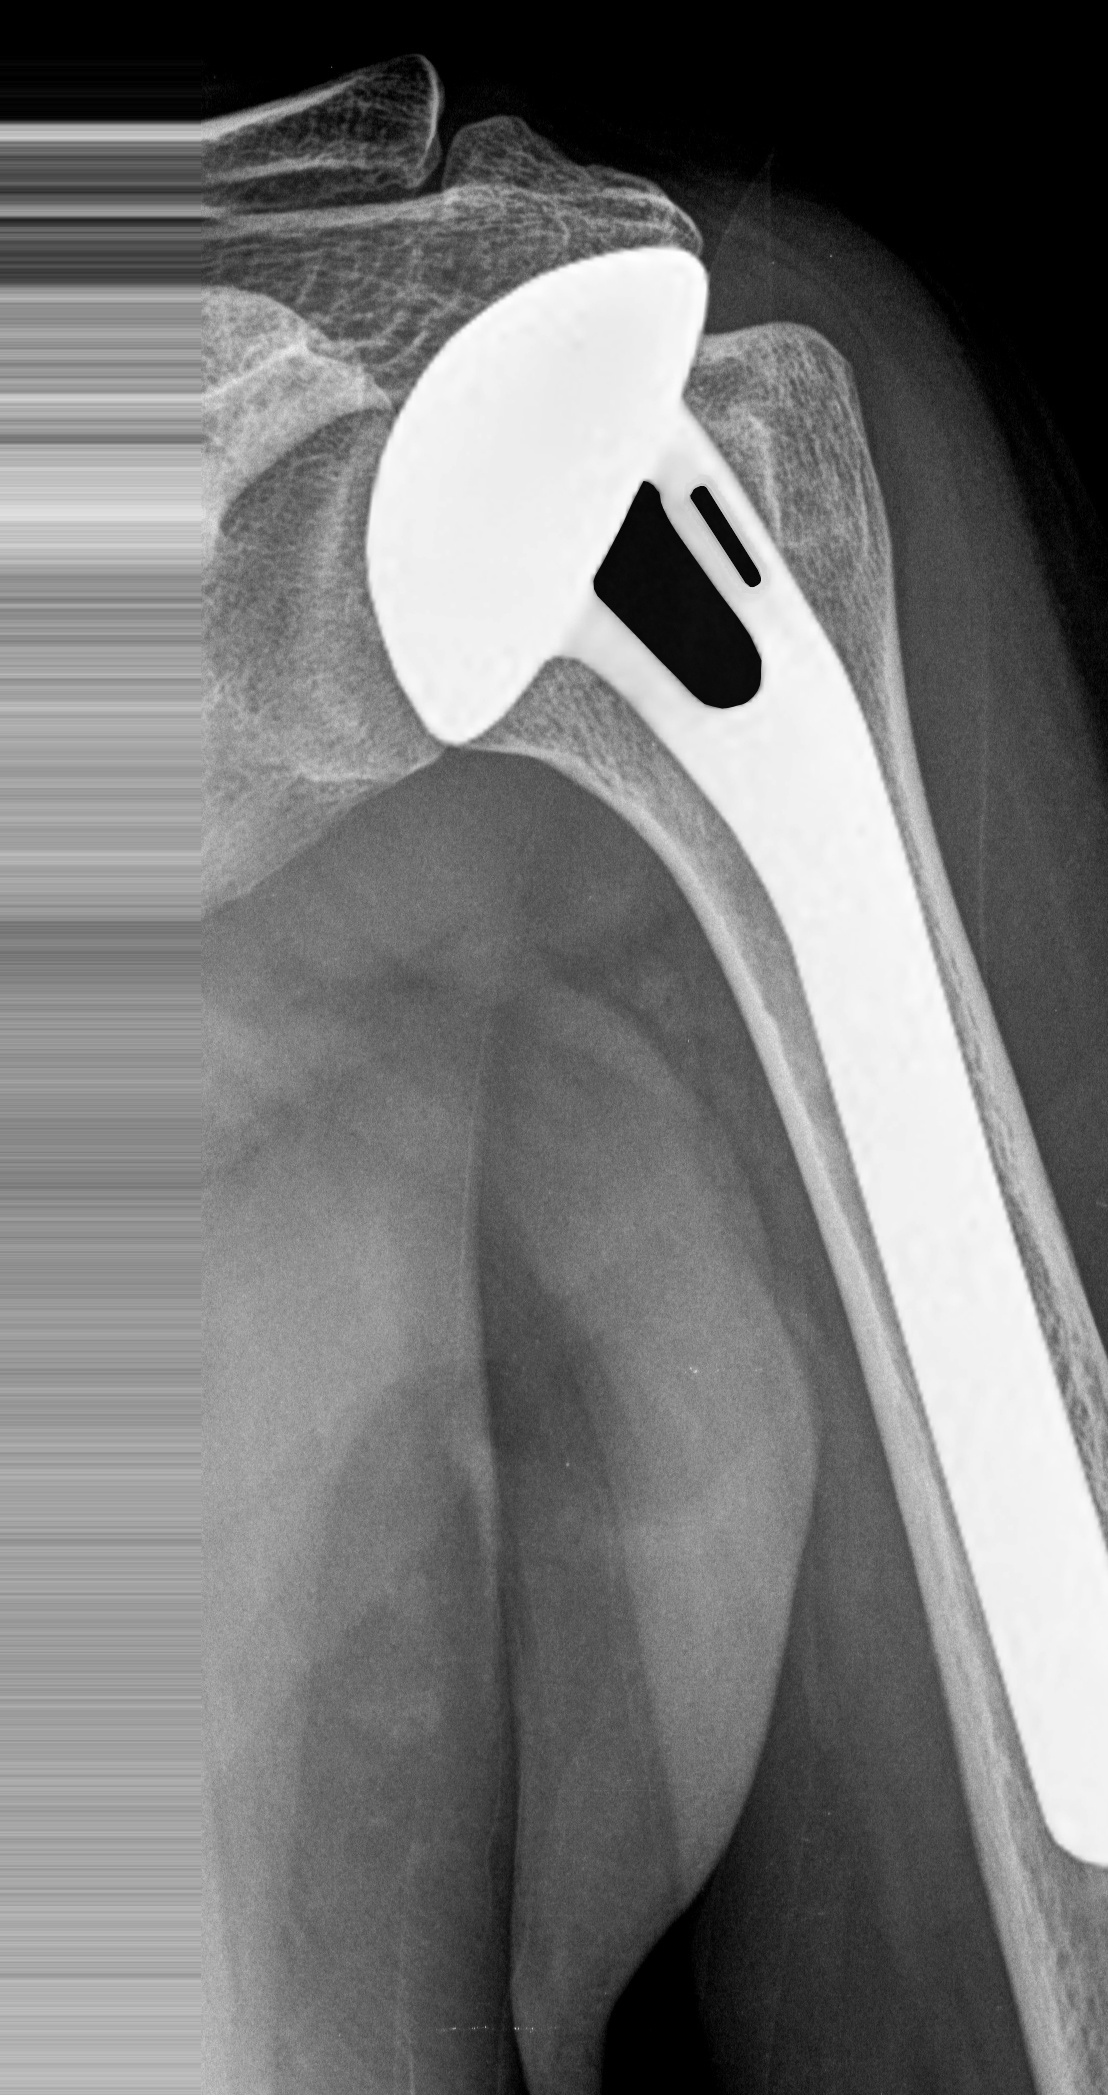Shoulder - AequalisFracture - Tornier: (301, 212, 827, 763)
